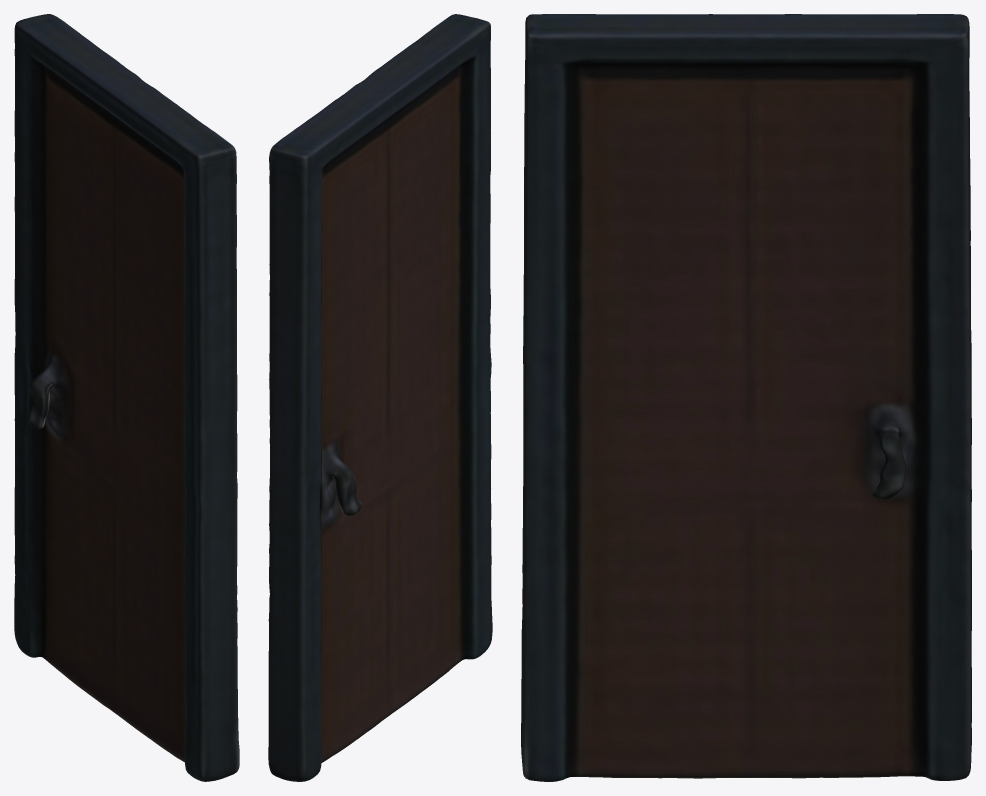
File: c9f4453b3162_door__3d_asset_0_gl.fbx
3 renders of one model, left to right at view 1: azimuth 30°, elevation 25°; view 2: azimuth 150°, elevation 25°; view 3: azimuth 270°, elevation 25°, orthographic. The views are drawn at different scales.
Visible parts, largest first — view 1: high_poly; view 2: high_poly; view 3: high_poly.
Part boxes in pixels (x1=…): high_poly: x1=14, y1=14, x2=239, y2=781; high_poly: x1=268, y1=14, x2=492, y2=781; high_poly: x1=521, y1=14, x2=971, y2=781.
Bounding box in the file's own units: 14.1 × 100 × 54.25.
